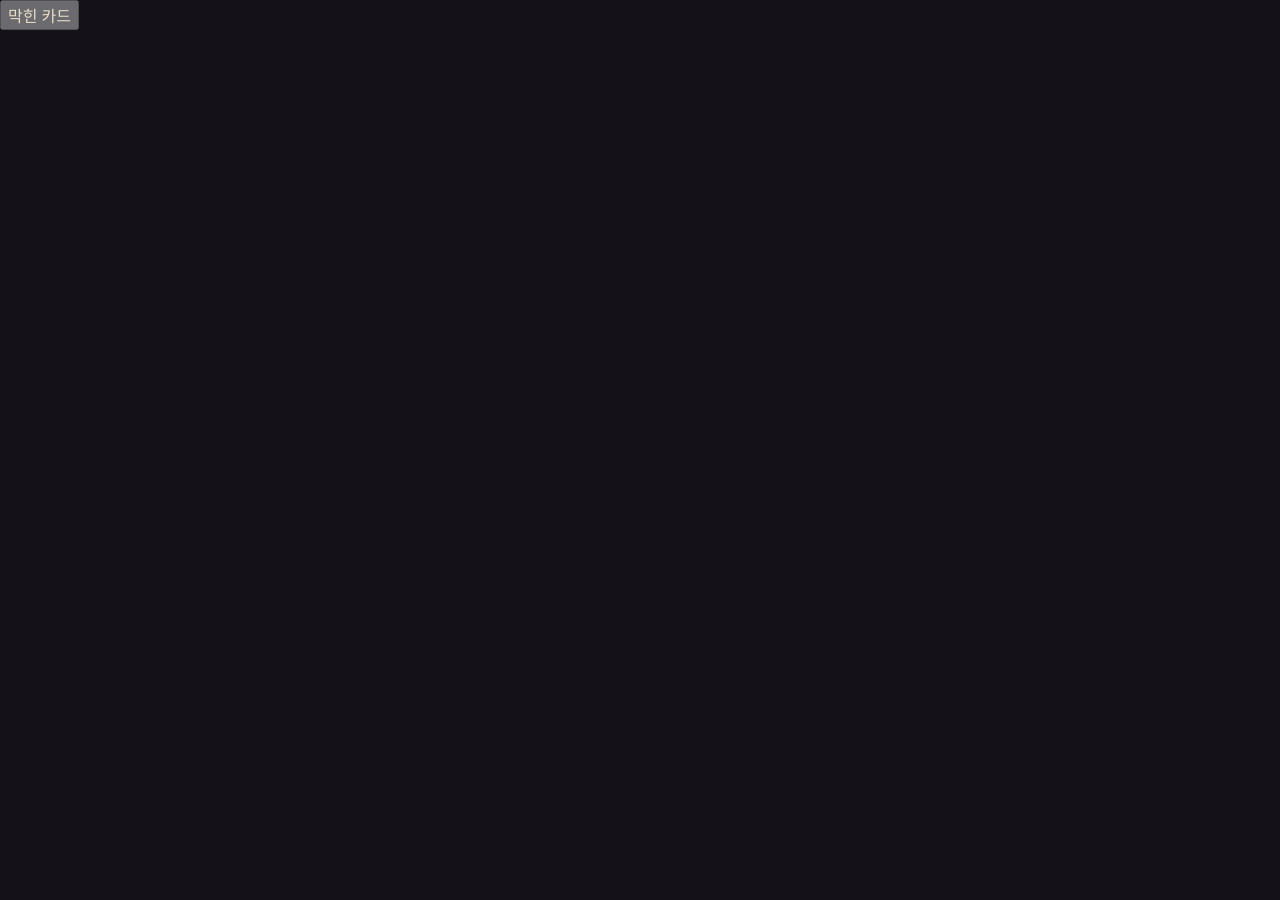
Test case: CardInspection tap details › opens details for a tap that lands on the wrapper of a disabled child
This screenshot has width=1280, height=900.
Click the element with class "test-inspection".
click(40, 15)  # box [0,0,79,30]
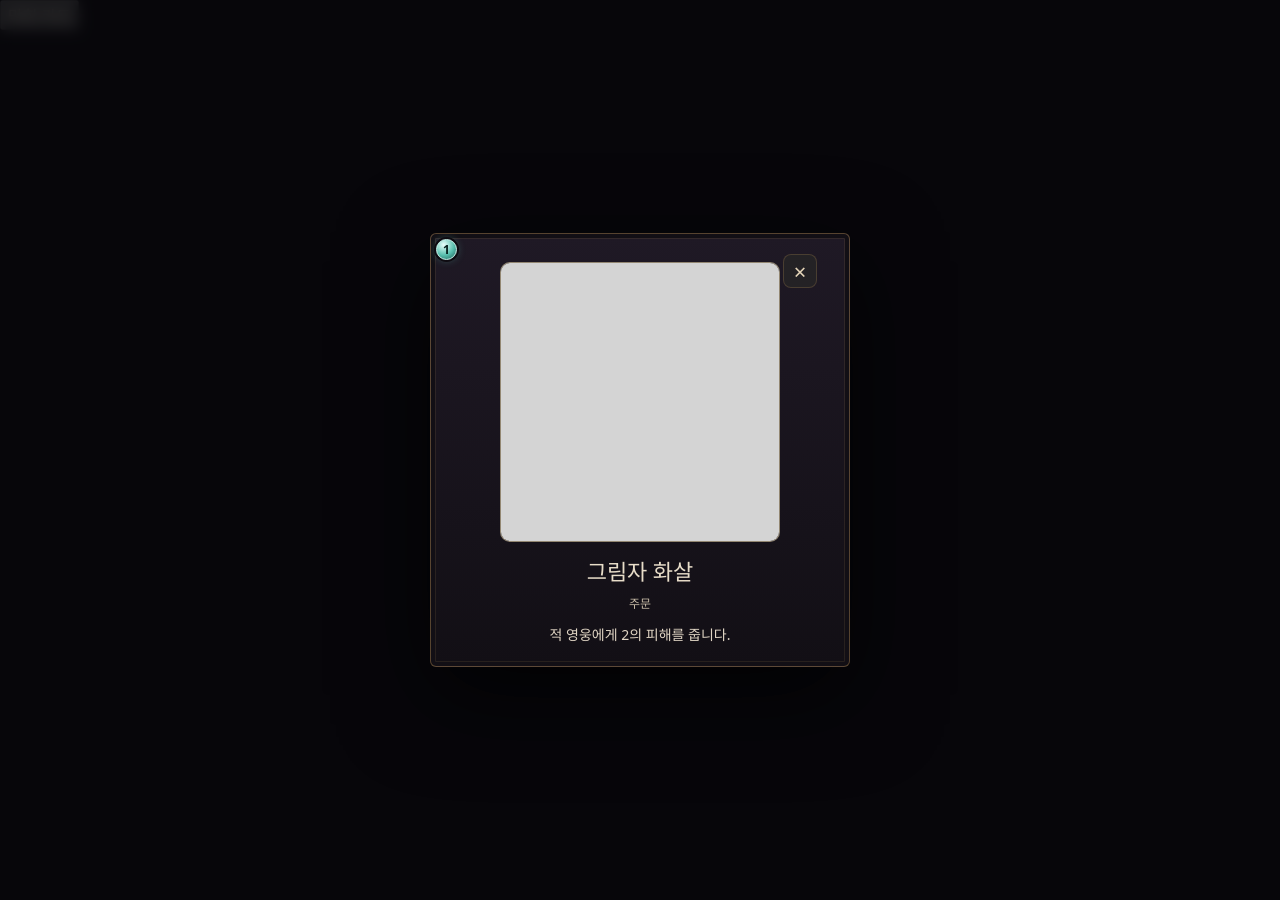
Now the dialog is shown, box [430,233,850,667]
